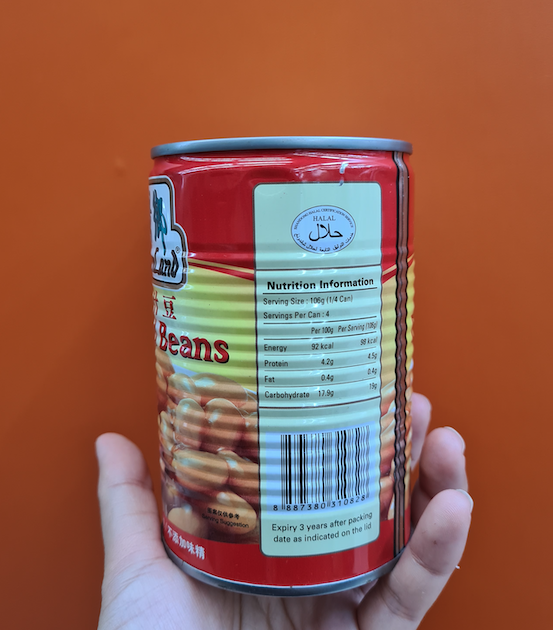Canned_Baked_Beans: (154, 147, 406, 571)
